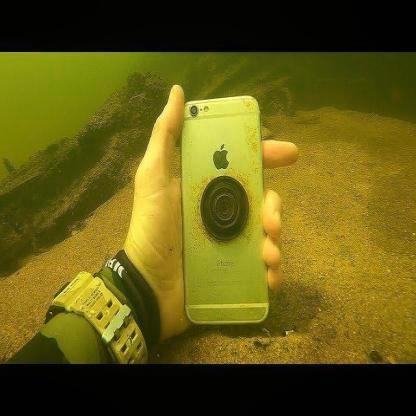cellphone: (178, 95, 272, 328)
